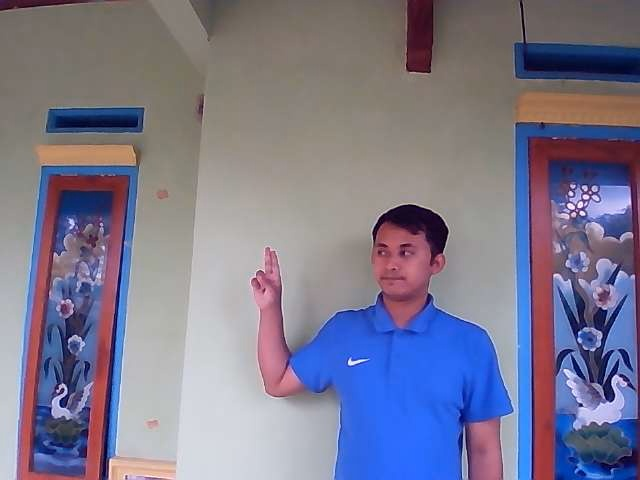U: (249, 246, 284, 311)
